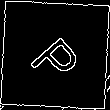P_NE: (23, 24, 87, 86)
